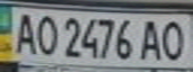2: (57, 13, 81, 60)
4: (78, 15, 100, 60)
6: (115, 16, 139, 61)
7: (97, 16, 118, 60)
A: (9, 9, 39, 55), (136, 17, 166, 62)
O: (157, 17, 190, 62), (33, 12, 60, 57)
